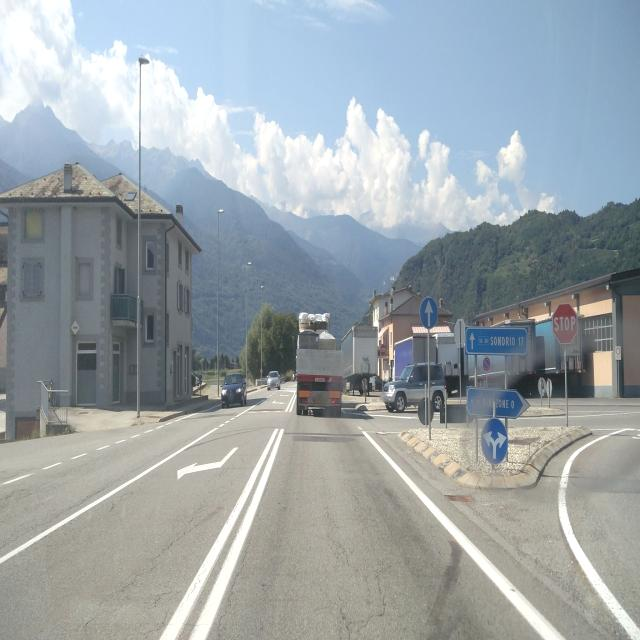car: (382, 361, 447, 413), (220, 370, 247, 408), (266, 370, 280, 390), (255, 376, 268, 388)
